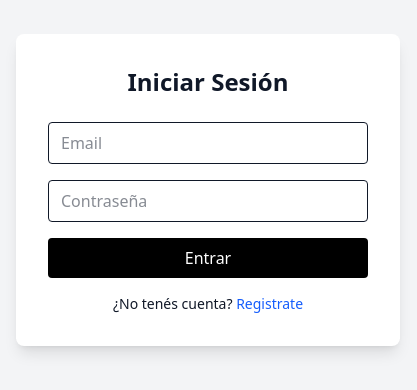
muestra error si las credenciales son inválidas
Type "bad@test.com" into the field with placeholder "Email".
click(208, 143); type("bad@test.com")  # box x1=48 y1=122 x2=368 y2=164
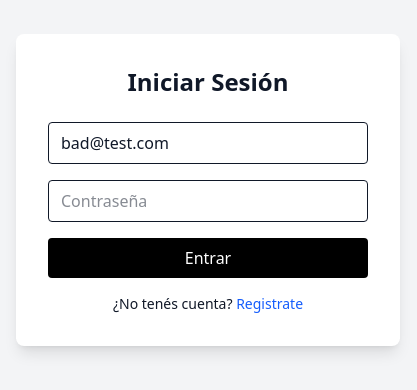
Type "0000" into the password field with placeholder "Contraseña".
click(208, 201); type("0000")  # box x1=48 y1=180 x2=368 y2=222
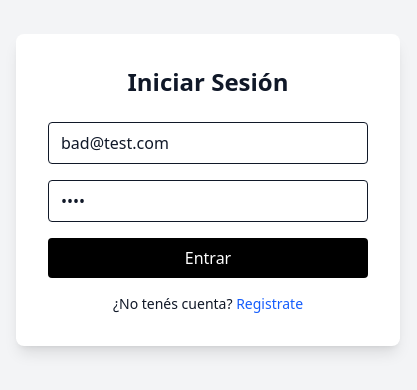
Click the button "Entrar".
click(208, 258)  # box x1=48 y1=238 x2=368 y2=278
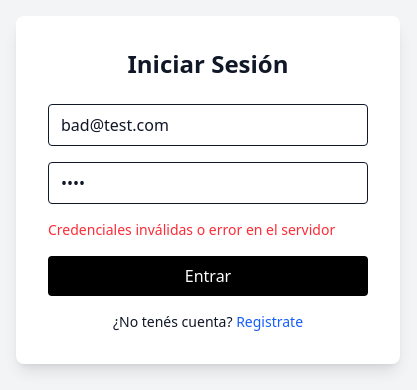
Now the text "Credenciales inválidas o error en el servidor" is shown, box x1=48 y1=220 x2=368 y2=240
